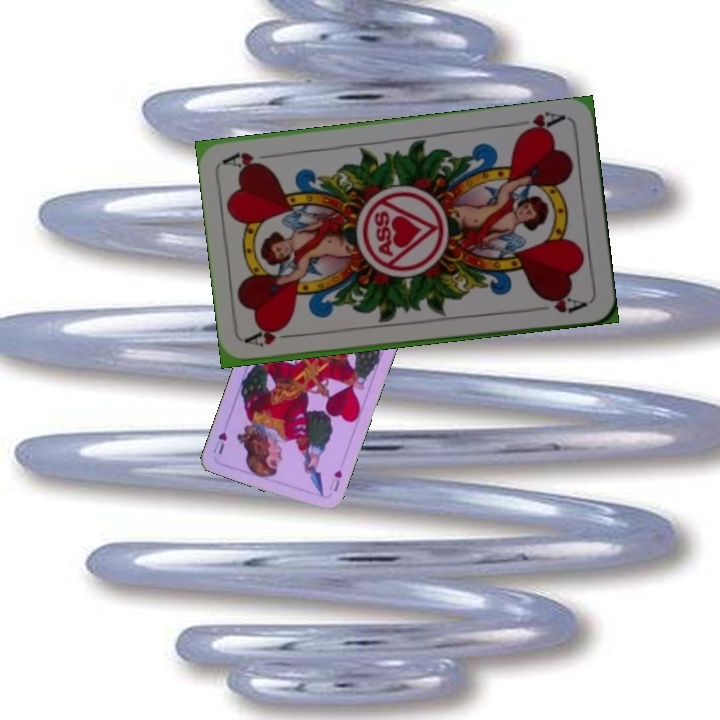HA: (513, 107, 568, 138), (243, 325, 302, 349)
HU: (325, 466, 345, 494)
